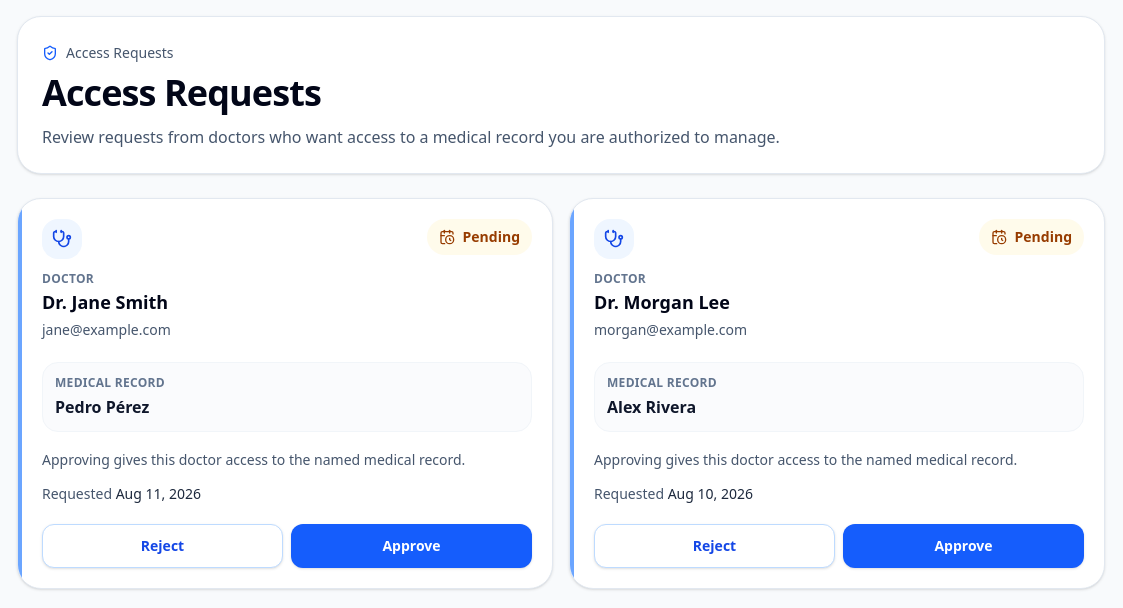
Scenario: PatientAccessRequestsPage › a pending decision disables both buttons only for that request
This screenshot has width=1123, height=608.
Click the button "Approve" below "Aug 11, 2026" at (412,546), box [291, 524, 532, 568]
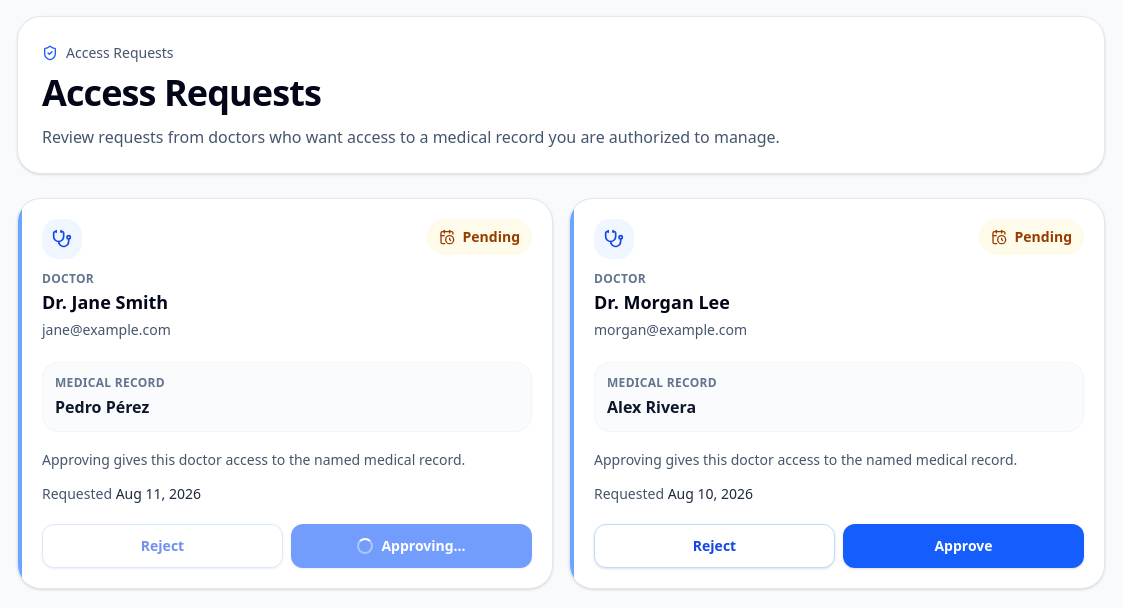
expect the button "Approve" is enabled: met, box [843, 524, 1084, 568]
expect the button "Approving..." is disabled: met, box [291, 524, 532, 568]
expect the button "Reject" below "Aug 11, 2026" is disabled: met, box [42, 524, 283, 568]
